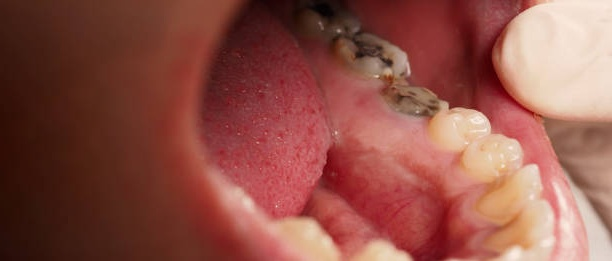Caries: (336, 37, 408, 81), (289, 4, 370, 42), (376, 79, 441, 117)
